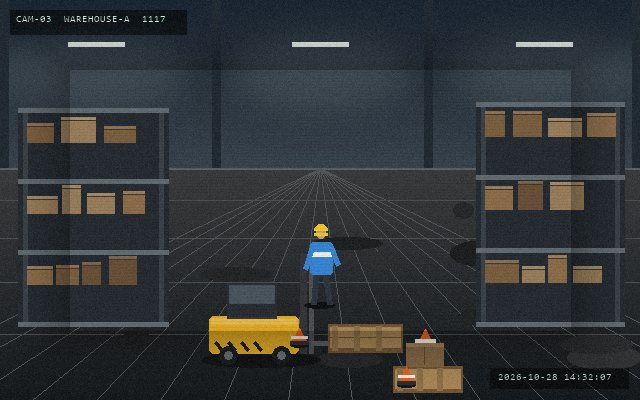cone: (413, 327, 437, 353), (396, 364, 416, 387), (289, 326, 309, 347)
forklift: (205, 252, 344, 367)
pallet: (326, 322, 404, 354), (391, 364, 464, 394)
person: (303, 222, 340, 307)
shelf: (476, 102, 624, 322), (18, 108, 168, 322)
